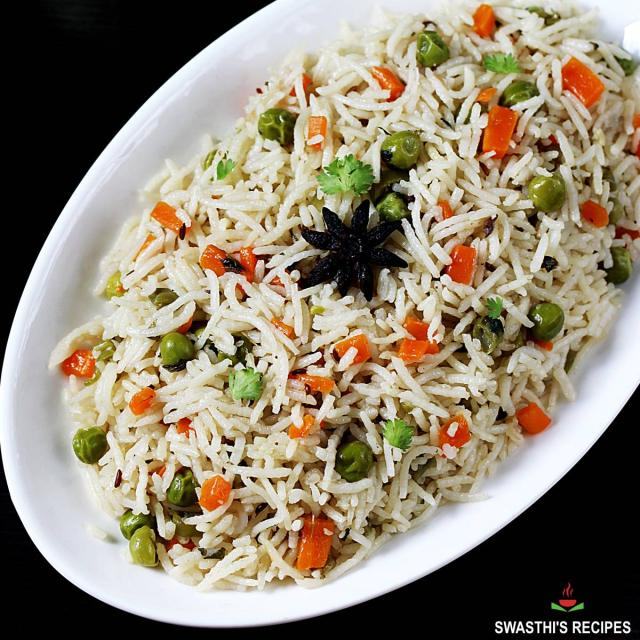veg palav: (28, 0, 640, 603)
